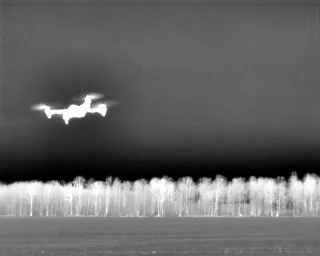DRONE: (28, 85, 124, 132)
